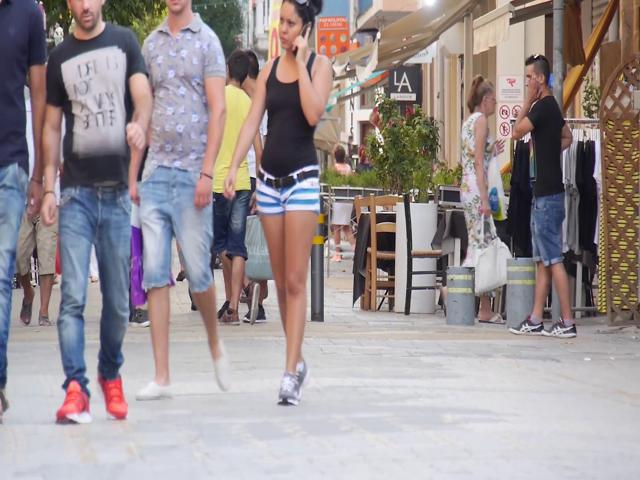shoe: (55, 380, 90, 424), (99, 373, 128, 420), (213, 340, 231, 392), (278, 371, 300, 406), (542, 317, 576, 339), (136, 381, 172, 400), (509, 317, 543, 336), (245, 282, 260, 324), (20, 287, 35, 326), (218, 311, 240, 326), (38, 310, 52, 326)
